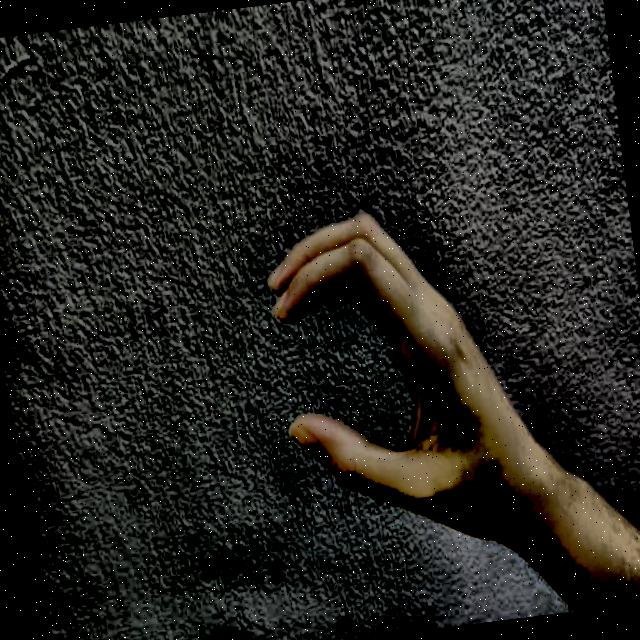A: (234, 169, 509, 590)
